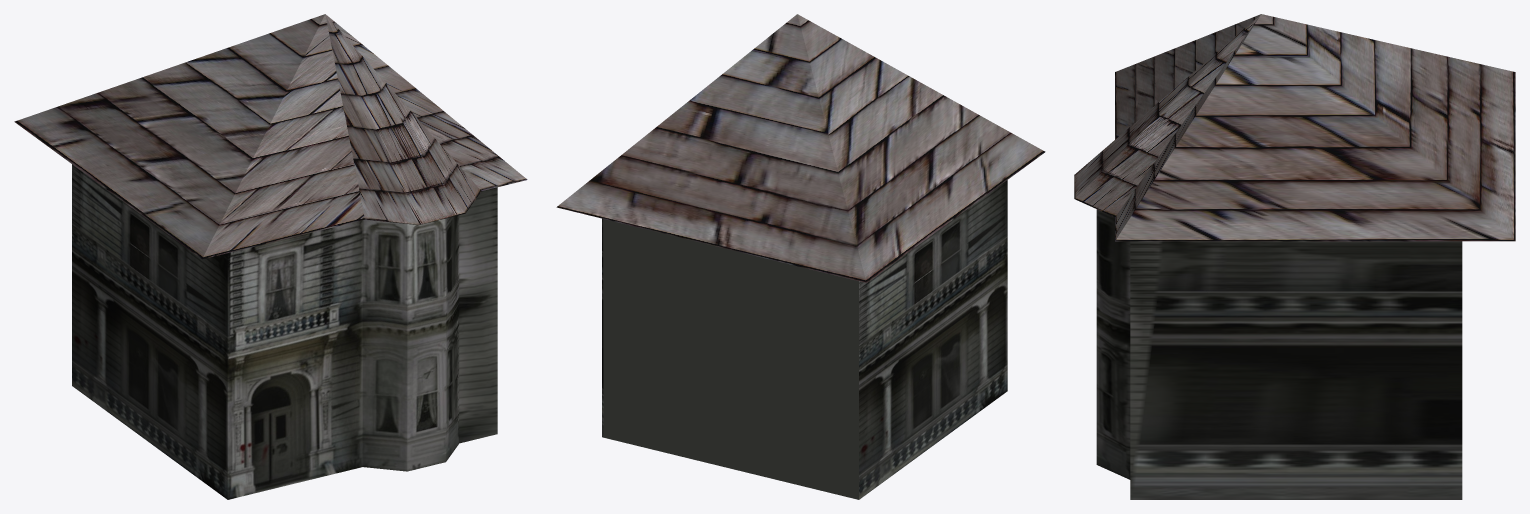
File: HauntedHouse.fbx
The picture shows the model from 3 angles, left to right: view 1: azimuth 30°, elevation 25°; view 2: azimuth 150°, elevation 25°; view 3: azimuth 270°, elevation 25°; orthographic projection. The views are drawn at different scales.
Visible parts, largest first — view 1: Cube; view 2: Cube; view 3: Cube.
Boxes of the visible parts, x1=… form: Cube: x1=14, y1=14, x2=527, y2=499; Cube: x1=556, y1=14, x2=1045, y2=499; Cube: x1=1074, y1=14, x2=1515, y2=499.
Size of the model in its own units: 2.41 by 2.85 by 2.66.
